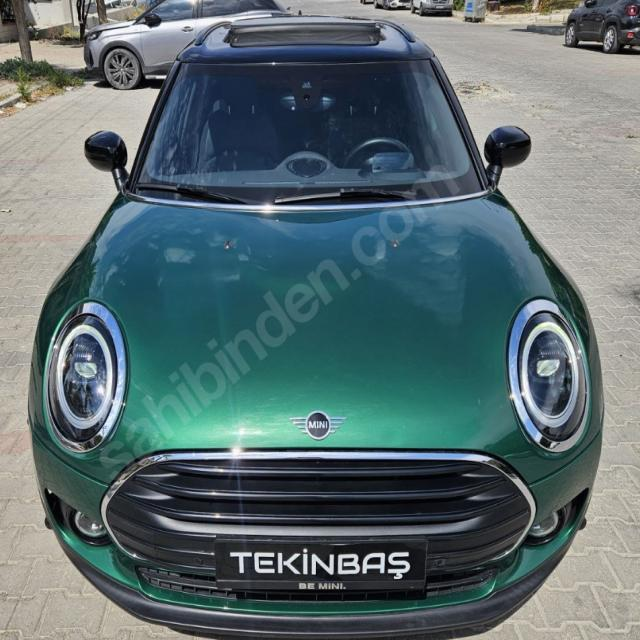mini: (278, 401, 360, 444)
